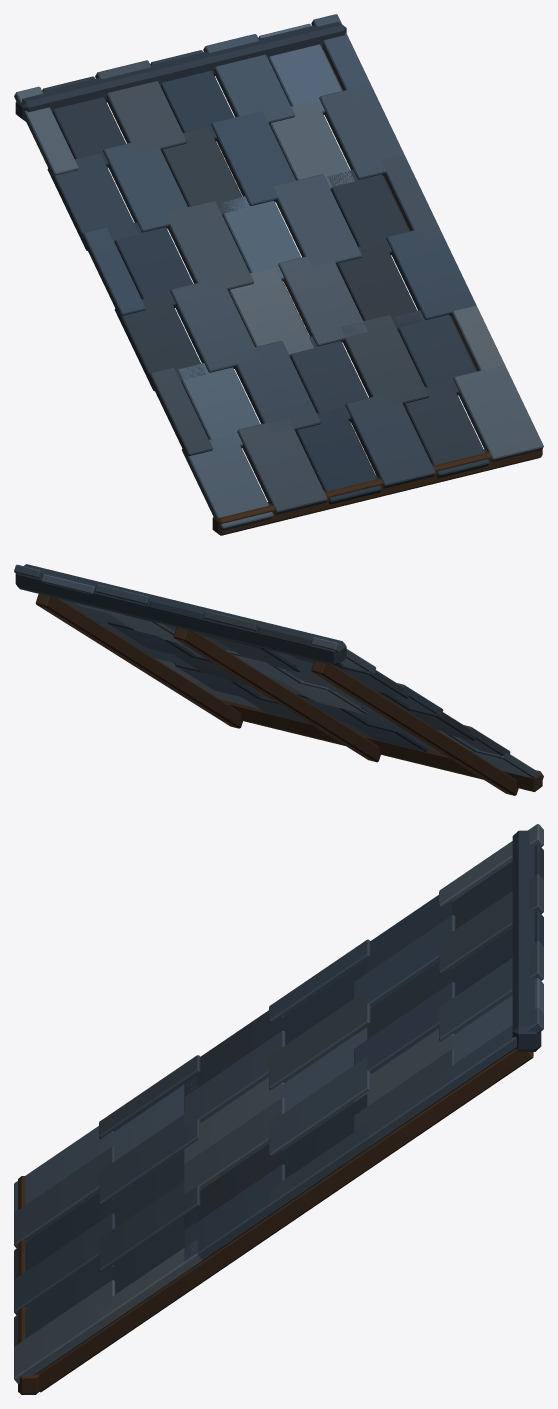
The model's file is piece_slateslope.glb.
3 views of the same model, one above another, from view 1: azimuth 30°, elevation 25°; view 2: azimuth 150°, elevation 25°; view 3: azimuth 270°, elevation 25° (orthographic). The views are drawn at different scales.
Parts seen in each view (by area): view 1: Base; view 2: Base; view 3: Base.
Part boxes in pixels (x1,y1,x2,y2): Base: [14, 14, 543, 535]; Base: [14, 564, 543, 795]; Base: [14, 824, 543, 1394].
Size of the model in its own units: 4 by 3.55 by 4.47.
